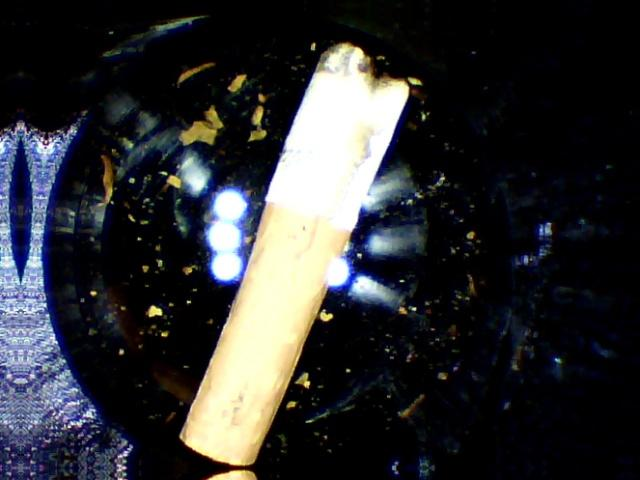megot: (166, 24, 431, 478)
